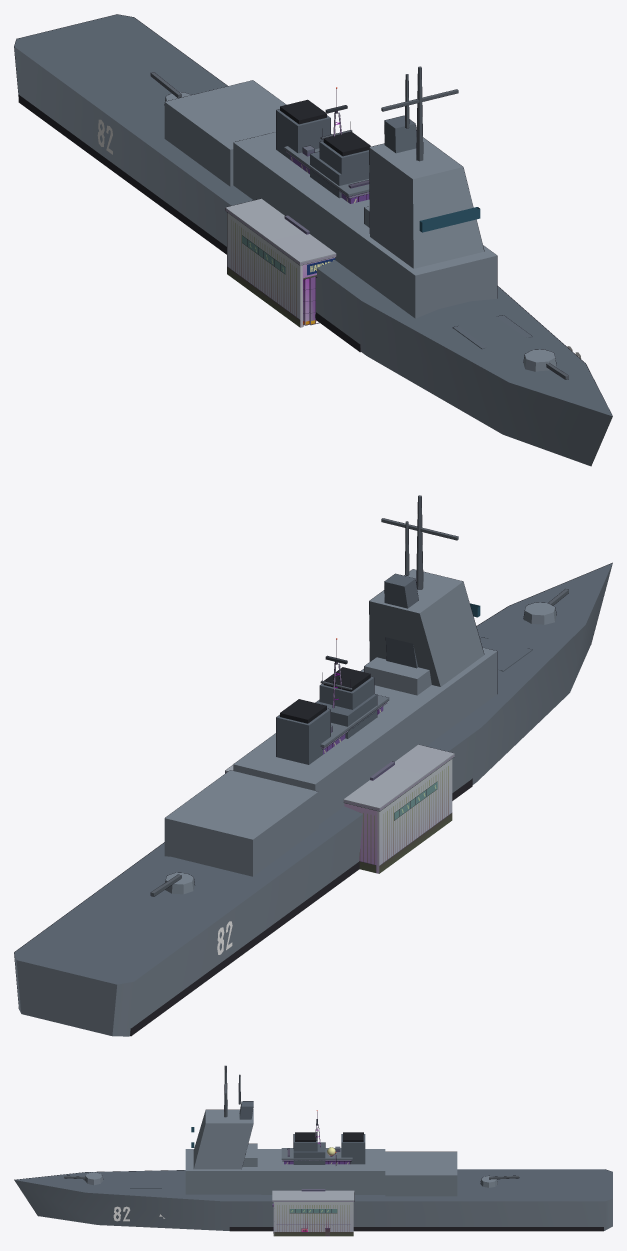
Rendered from fps-kit-pelagic.glb.
3 renders of one model, top to bottom at view 1: azimuth 30°, elevation 25°; view 2: azimuth 150°, elevation 25°; view 3: azimuth 270°, elevation 25°, orthographic. The views are drawn at different scales.
Visible parts, largest first — view 1: KIT_PELAGIC_Backdrop_Destroyer, KIT_PELAGIC_Landmark_Hangar1, KIT_PELAGIC_Landmark_HangarRoof, KIT_PELAGIC_Backdrop_Frigate, KIT_PELAGIC_Landmark_IslandTop; view 2: KIT_PELAGIC_Backdrop_Destroyer, KIT_PELAGIC_Landmark_Hangar1, KIT_PELAGIC_Backdrop_Frigate, KIT_PELAGIC_Landmark_HangarRoof, KIT_PELAGIC_Landmark_IslandTop; view 3: KIT_PELAGIC_Backdrop_Destroyer, KIT_PELAGIC_Landmark_Hangar1, KIT_PELAGIC_Backdrop_Frigate, KIT_PELAGIC_Landmark_HangarRoof, KIT_PELAGIC_Landmark_IslandTop.
Boxes of the visible parts, box(x1,y1,x2,y2) form: KIT_PELAGIC_Backdrop_Destroyer: box(14, 14, 612, 466); KIT_PELAGIC_Landmark_Hangar1: box(227, 212, 335, 327); KIT_PELAGIC_Landmark_HangarRoof: box(225, 198, 336, 265); KIT_PELAGIC_Backdrop_Frigate: box(310, 74, 416, 227); KIT_PELAGIC_Landmark_IslandTop: box(284, 87, 369, 203); KIT_PELAGIC_Backdrop_Destroyer: box(14, 495, 612, 1036); KIT_PELAGIC_Landmark_Hangar1: box(344, 759, 452, 873); KIT_PELAGIC_Backdrop_Frigate: box(315, 521, 431, 738); KIT_PELAGIC_Landmark_HangarRoof: box(225, 744, 454, 811); KIT_PELAGIC_Landmark_IslandTop: box(320, 638, 389, 754); KIT_PELAGIC_Backdrop_Destroyer: box(14, 1065, 612, 1231); KIT_PELAGIC_Landmark_Hangar1: box(272, 1202, 353, 1236); KIT_PELAGIC_Backdrop_Frigate: box(159, 1074, 325, 1218); KIT_PELAGIC_Landmark_HangarRoof: box(272, 1189, 354, 1201); KIT_PELAGIC_Landmark_IslandTop: box(281, 1110, 352, 1164).
Bounding box in the file's own units: 24.58 × 43.14 × 150.
1 material, 1 textured.
